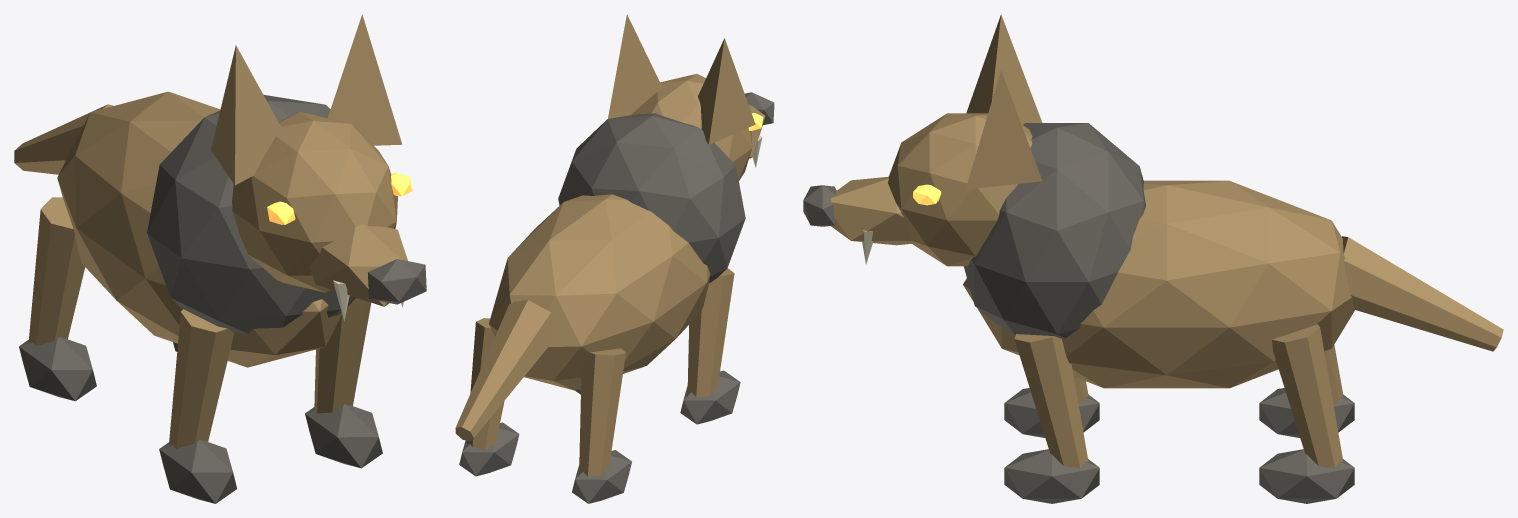
File: jackal.glb
3 views of the same model, side by side, from view 1: azimuth 30°, elevation 25°; view 2: azimuth 150°, elevation 25°; view 3: azimuth 270°, elevation 25° (orthographic). The views are drawn at different scales.
Parts seen in each view (by area): view 1: SM_jackal; view 2: SM_jackal; view 3: SM_jackal.
Part boxes in pixels (x1,y1,x2,y2): SM_jackal: (14, 14, 426, 503); SM_jackal: (455, 14, 774, 503); SM_jackal: (803, 14, 1503, 503).
Size of the model in its own units: 0.856 by 1.86 by 2.75.
